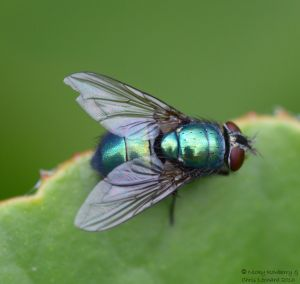green bottles fly: (58, 63, 257, 241)
